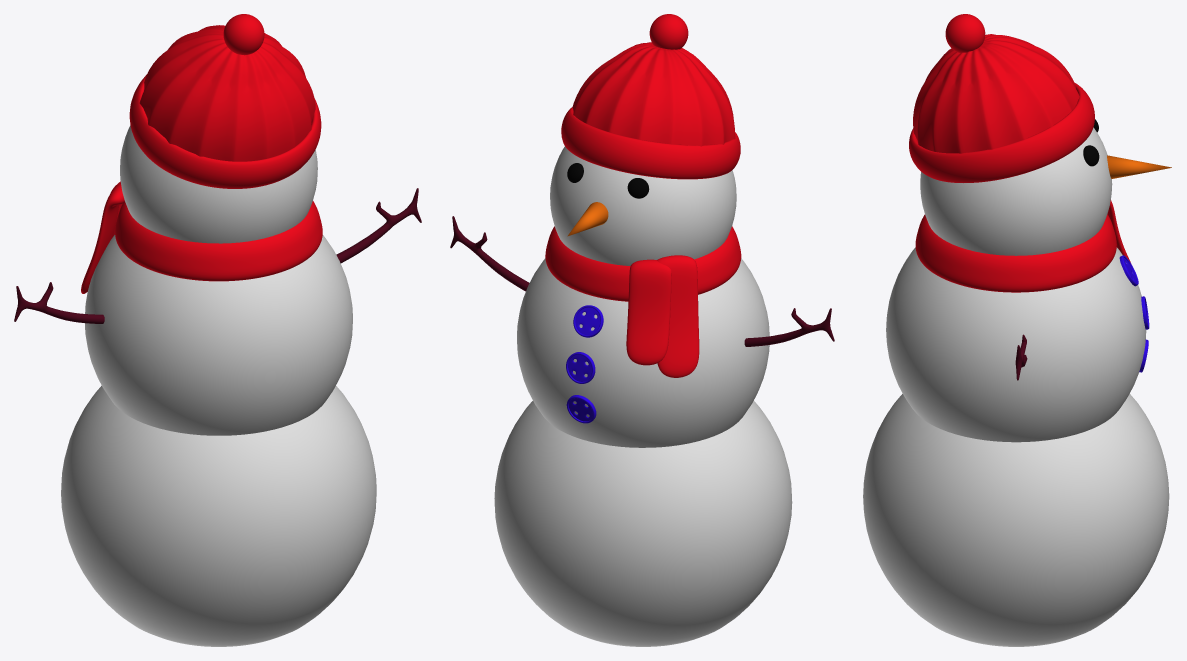
The model's file is SnowmanHatAndScarf.fbx.
3 renders of one model, left to right at view 1: azimuth 30°, elevation 25°; view 2: azimuth 150°, elevation 25°; view 3: azimuth 270°, elevation 25°, orthographic. The views are drawn at different scales.
Visible parts, largest first — view 1: Snowman, Sphere.002, Circle.001, Circle, Vert, Sphere.003, Plane.001; view 2: Snowman, Sphere.002, Circle, Circle.001, Plane, Plane.001, Buttons, Vert, Sphere.003, Cone; view 3: Snowman, Sphere.002, Circle.001, Circle, Sphere.003, Cone, Buttons.
Boxes of the visible parts, x1,y1,x2,y2 form: Snowman: (61, 125, 376, 646); Sphere.002: (139, 25, 315, 161); Circle.001: (115, 201, 322, 281); Circle: (129, 74, 321, 188); Vert: (14, 188, 421, 323); Sphere.003: (223, 14, 264, 55); Plane.001: (81, 183, 124, 293); Snowman: (494, 146, 792, 646); Sphere.002: (572, 42, 735, 146); Circle: (561, 107, 740, 179); Circle.001: (545, 226, 741, 301); Plane: (626, 259, 671, 365); Plane.001: (657, 255, 699, 377); Buttons: (566, 305, 603, 423); Vert: (450, 216, 834, 346); Sphere.003: (649, 14, 688, 49); Cone: (567, 202, 608, 236); Snowman: (863, 127, 1169, 646); Sphere.002: (913, 34, 1079, 153); Circle.001: (915, 214, 1116, 292); Circle: (909, 83, 1094, 182); Sphere.003: (945, 14, 985, 52); Cone: (1107, 155, 1171, 178); Buttons: (1119, 255, 1149, 372).
Size of the model in its own units: 294 by 427 by 200.
